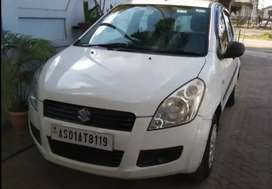AS01AT8119: (51, 124, 114, 152)
